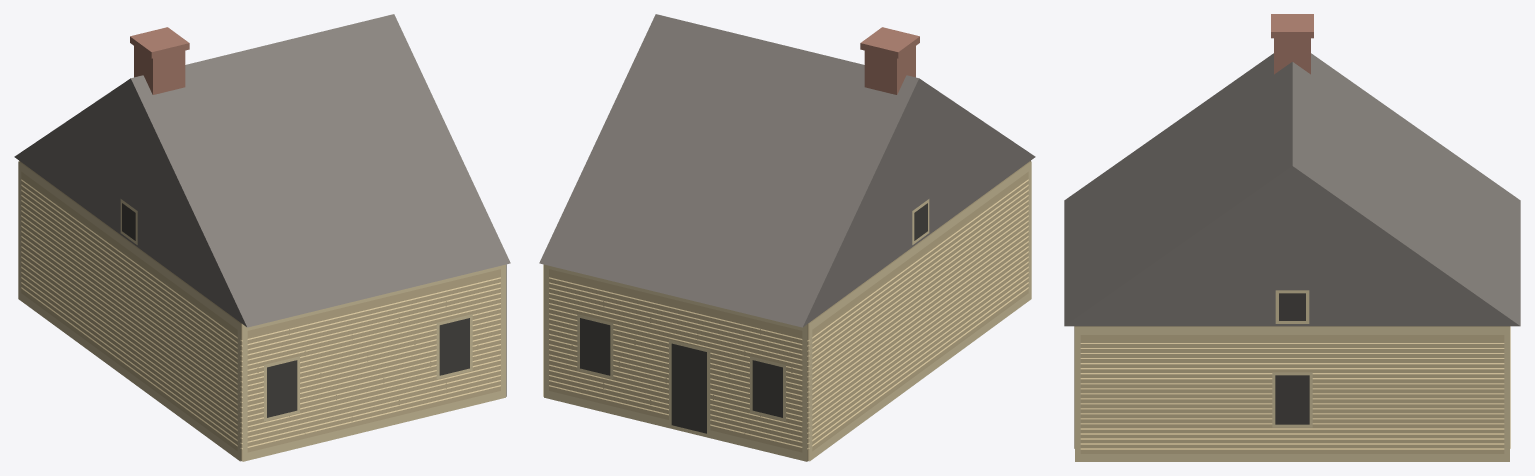
The model's file is recon_1835_blk_randolph_market_d6_02__inferred_1835.glb.
3 views of the same model, side by side, from view 1: azimuth 30°, elevation 25°; view 2: azimuth 150°, elevation 25°; view 3: azimuth 270°, elevation 25° (orthographic). The views are drawn at different scales.
Parts seen in each view (by area): view 1: recon_1835_blk_randolph_market_d6_02__inferred_1835; view 2: recon_1835_blk_randolph_market_d6_02__inferred_1835; view 3: recon_1835_blk_randolph_market_d6_02__inferred_1835.
Part boxes in pixels (x1,y1,x2,y2): recon_1835_blk_randolph_market_d6_02__inferred_1835: (14, 14, 510, 461); recon_1835_blk_randolph_market_d6_02__inferred_1835: (539, 14, 1035, 461); recon_1835_blk_randolph_market_d6_02__inferred_1835: (1064, 14, 1520, 461).
Bounding box in the file's own units: 6.92 × 8.25 × 10.46.
